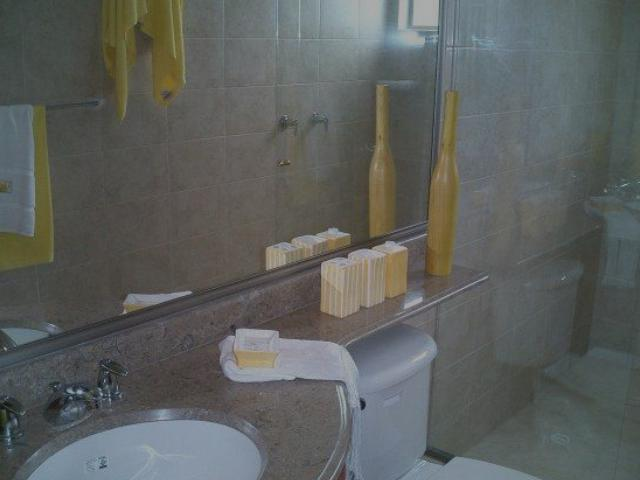Ducha: (446, 0, 640, 480)
Lavamanos: (0, 353, 272, 480)
Sanitario: (334, 326, 590, 480)
